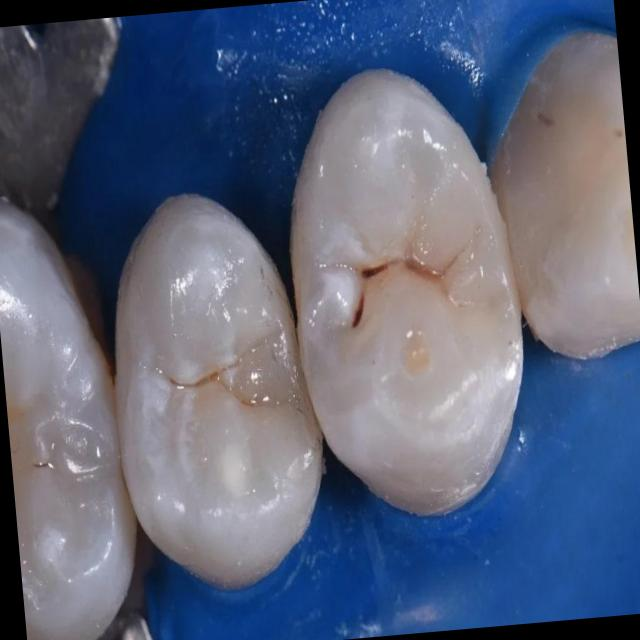Caries: (350, 297, 363, 327), (360, 264, 386, 278)
Tooth: (290, 71, 521, 508), (114, 197, 318, 586), (0, 200, 131, 640), (495, 34, 640, 354)
